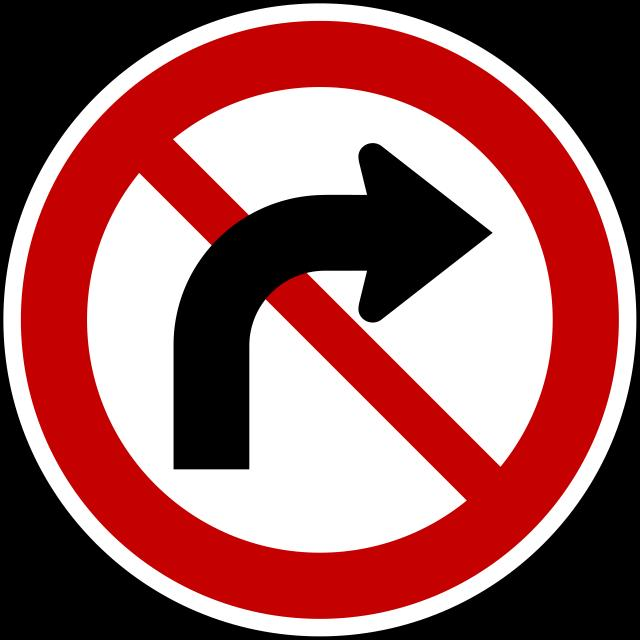regulatory_No_right_turn: (0, 0, 640, 640)
